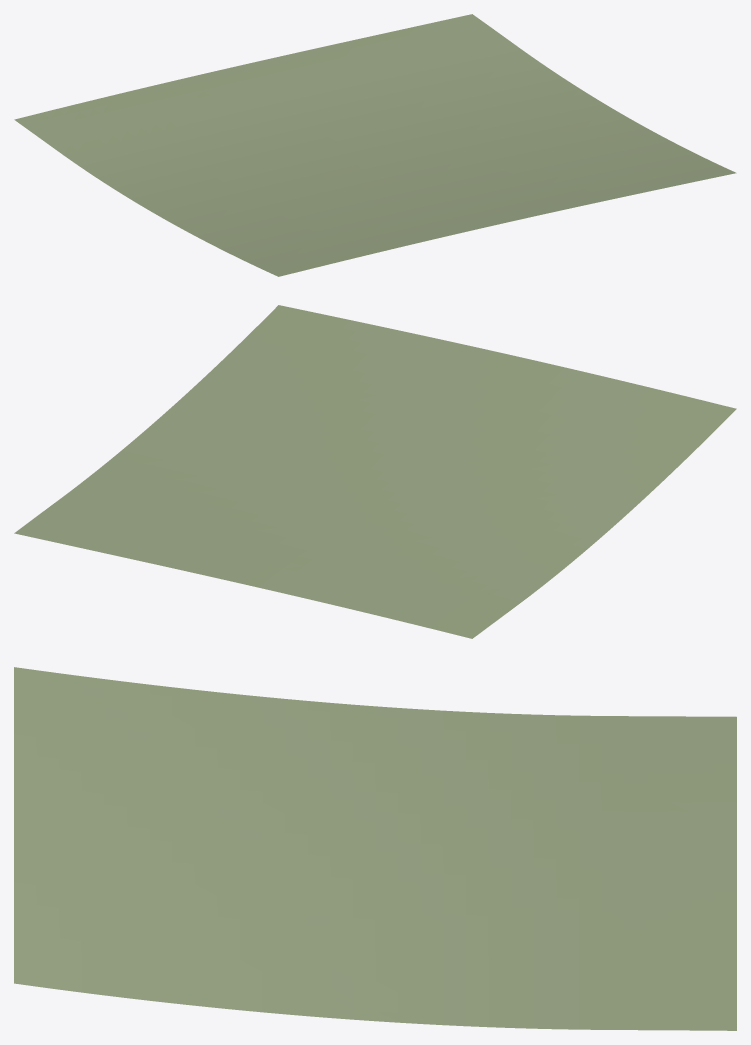
Rendered from expanse-31-3.glb.
The picture shows the model from 3 angles, top to bottom: view 1: azimuth 30°, elevation 25°; view 2: azimuth 150°, elevation 25°; view 3: azimuth 270°, elevation 25°; orthographic projection. The views are drawn at different scales.
Parts seen in each view (by area): view 1: expanse-31-3; view 2: expanse-31-3; view 3: expanse-31-3.
Part boxes in pixels (<box>): expanse-31-3: <box>14,14,736,276</box>; expanse-31-3: <box>14,305,736,638</box>; expanse-31-3: <box>14,667,736,1030</box>.
Size of the model in its own units: 256 by 22.85 by 256.
